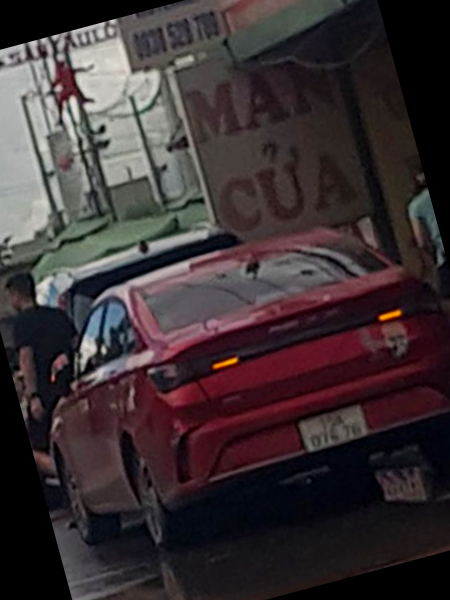lisence: (296, 404, 371, 454)
